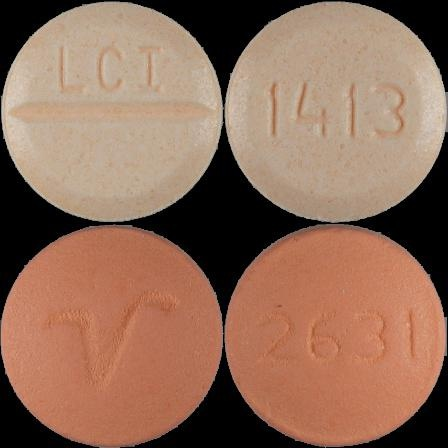60760-413: (0, 0, 224, 224)
